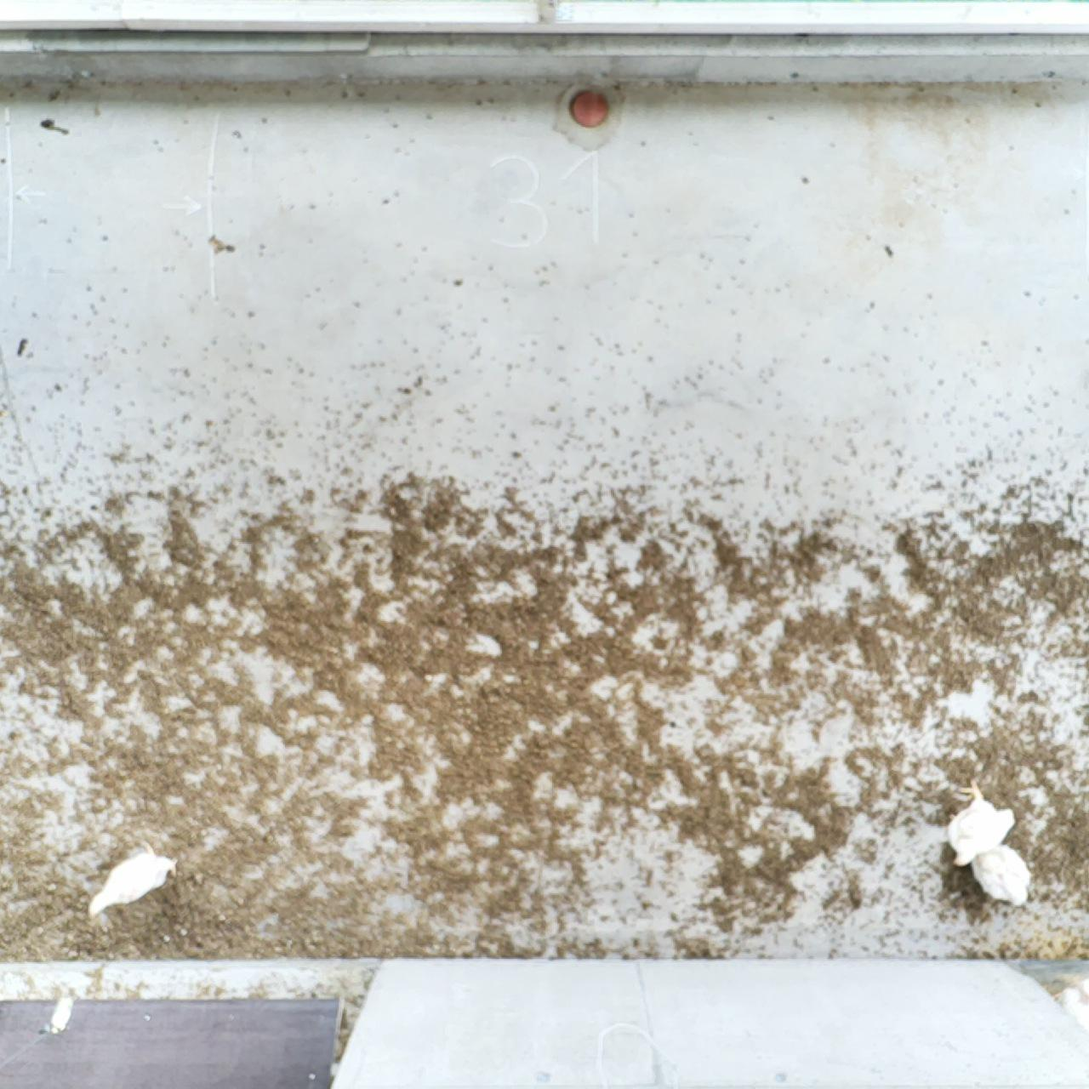chicken: (85, 839, 186, 922), (944, 779, 1019, 873), (966, 836, 1035, 909)
